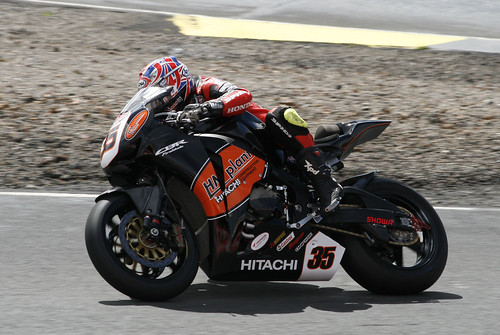helmet: (136, 52, 192, 90)
